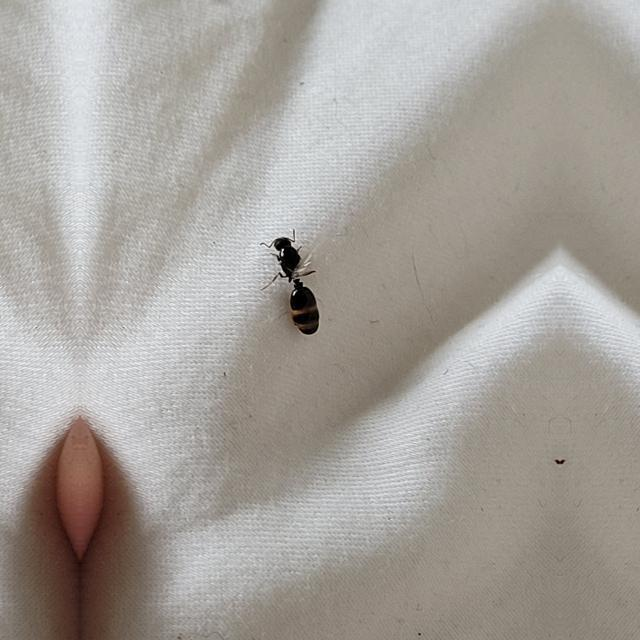Tetramorium: (257, 212, 337, 344)
